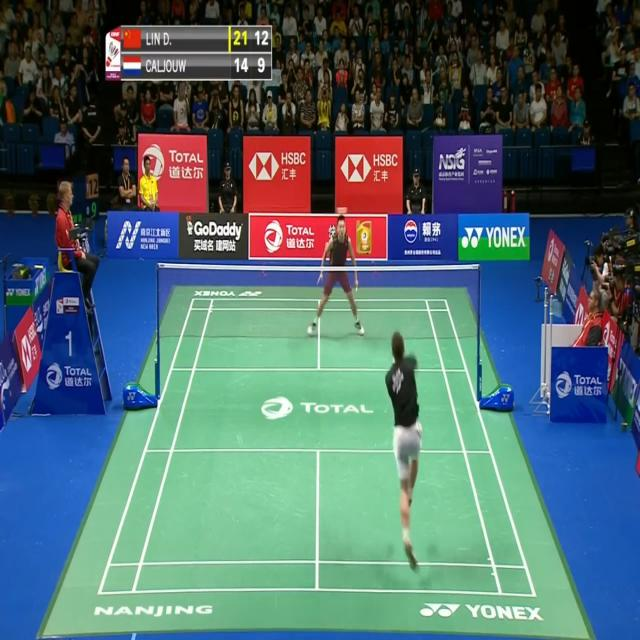Player1: (378, 325, 432, 575)
Player2: (303, 210, 372, 350)
